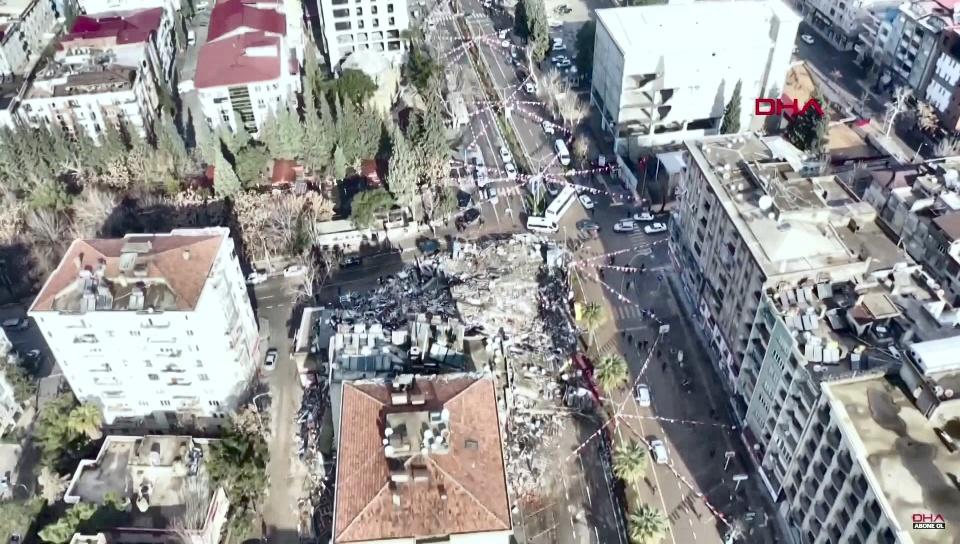kapali: (480, 200, 616, 532), (322, 222, 487, 305)
